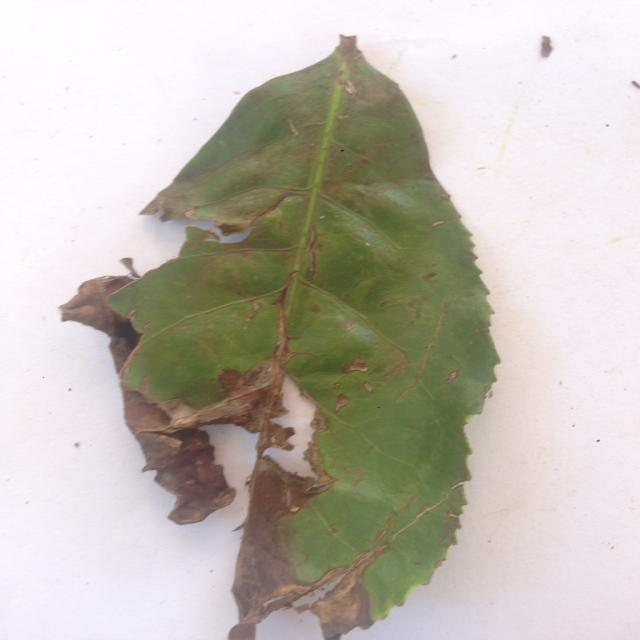Brown Blight: (70, 28, 498, 638)
